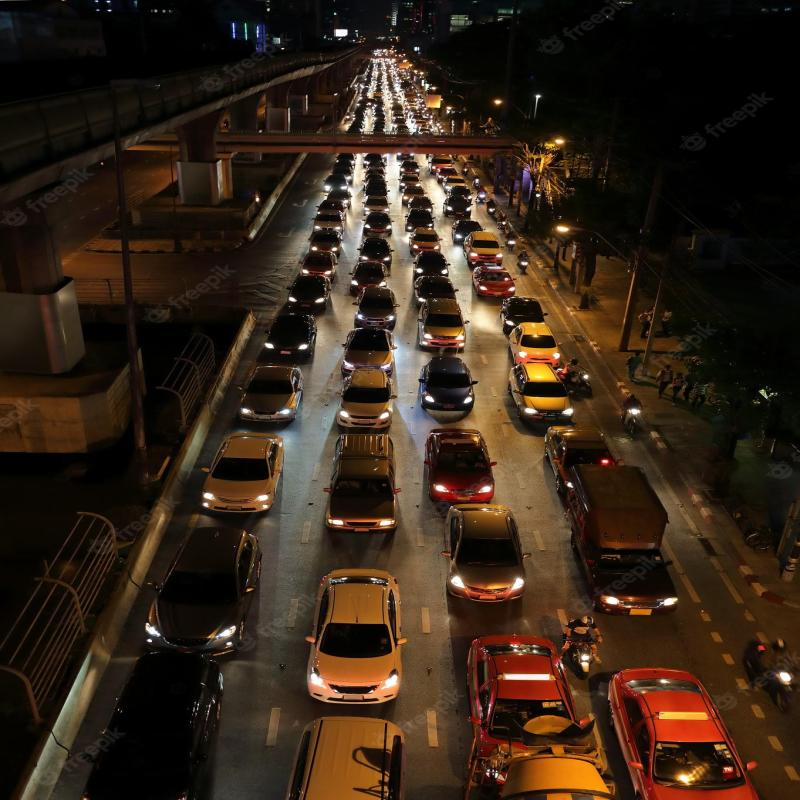car: (608, 664, 748, 800), (467, 622, 586, 754), (303, 562, 412, 706), (318, 428, 415, 540), (438, 506, 544, 607), (414, 364, 495, 446), (420, 416, 493, 501), (326, 342, 389, 438), (215, 428, 276, 514), (232, 362, 298, 437), (250, 301, 316, 368), (362, 282, 396, 324)
